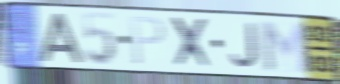5: (82, 10, 118, 69)
A: (39, 12, 86, 65)
J: (229, 21, 261, 70)
M: (258, 19, 313, 75)
P: (129, 15, 167, 67)
X: (168, 15, 216, 71)
